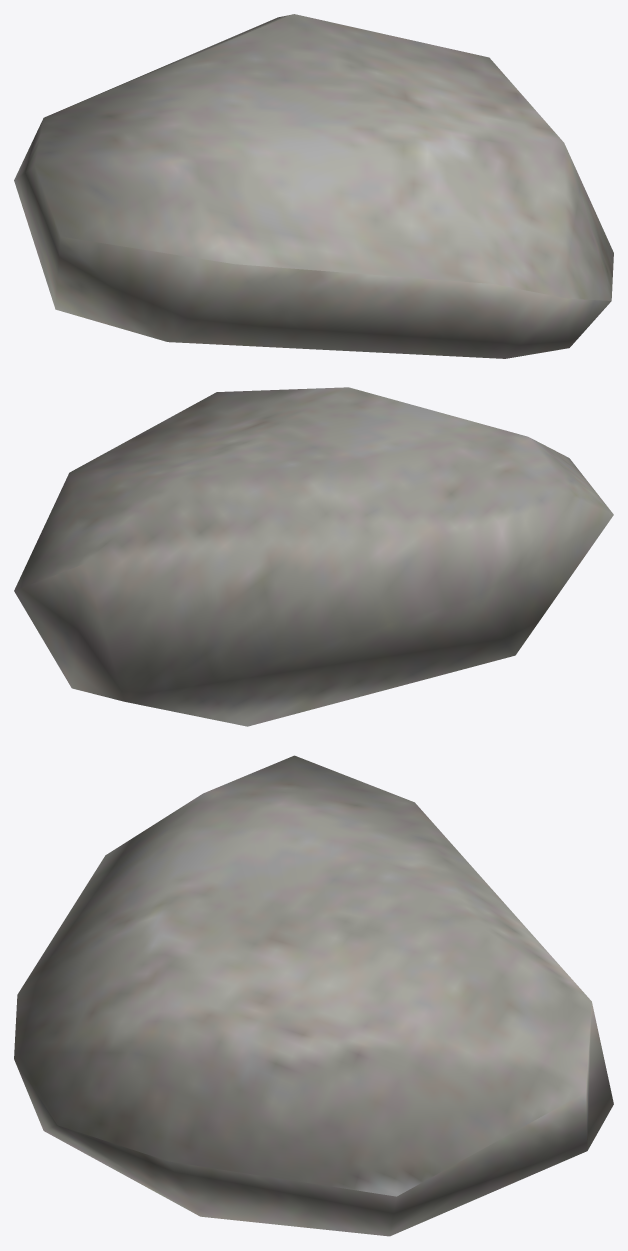
File: Rock_10.glb
The picture shows the model from 3 angles, top to bottom: view 1: azimuth 30°, elevation 25°; view 2: azimuth 150°, elevation 25°; view 3: azimuth 270°, elevation 25°; orthographic projection. The views are drawn at different scales.
Parts seen in each view (by area): view 1: rock_10; view 2: rock_10; view 3: rock_10.
Boxes of the visible parts, bbox=[...] form: rock_10: bbox=[14, 14, 613, 358]; rock_10: bbox=[14, 387, 613, 726]; rock_10: bbox=[14, 755, 613, 1236].
Size of the model in its own units: 0.6534 by 0.2964 by 0.6249.
Materials: 1 (1 with a texture image).
